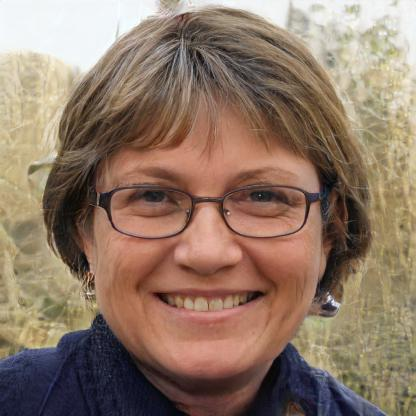glasses: (96, 179, 319, 245)
